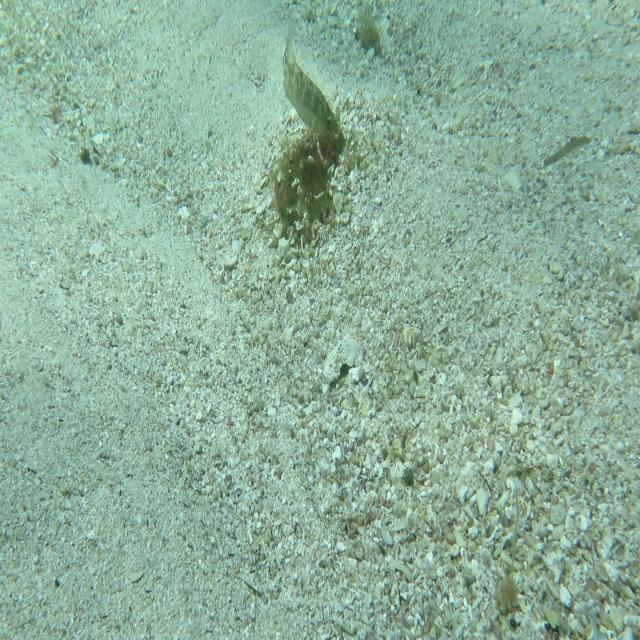NIP_IN: (282, 16, 342, 140)
core_nest: (301, 139, 335, 174)
nest: (269, 120, 350, 255)
vegetation: (541, 134, 593, 169), (354, 5, 385, 58), (79, 142, 91, 166)
